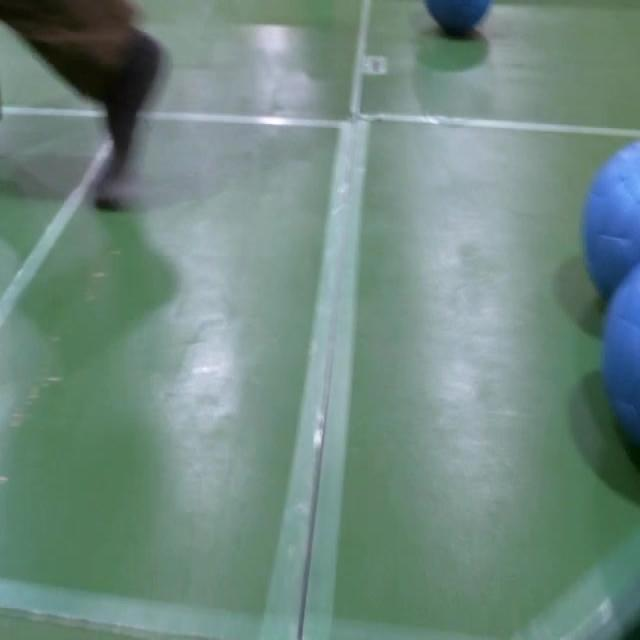blue_ball: (580, 138, 640, 300), (601, 264, 640, 473), (422, 0, 494, 40)
